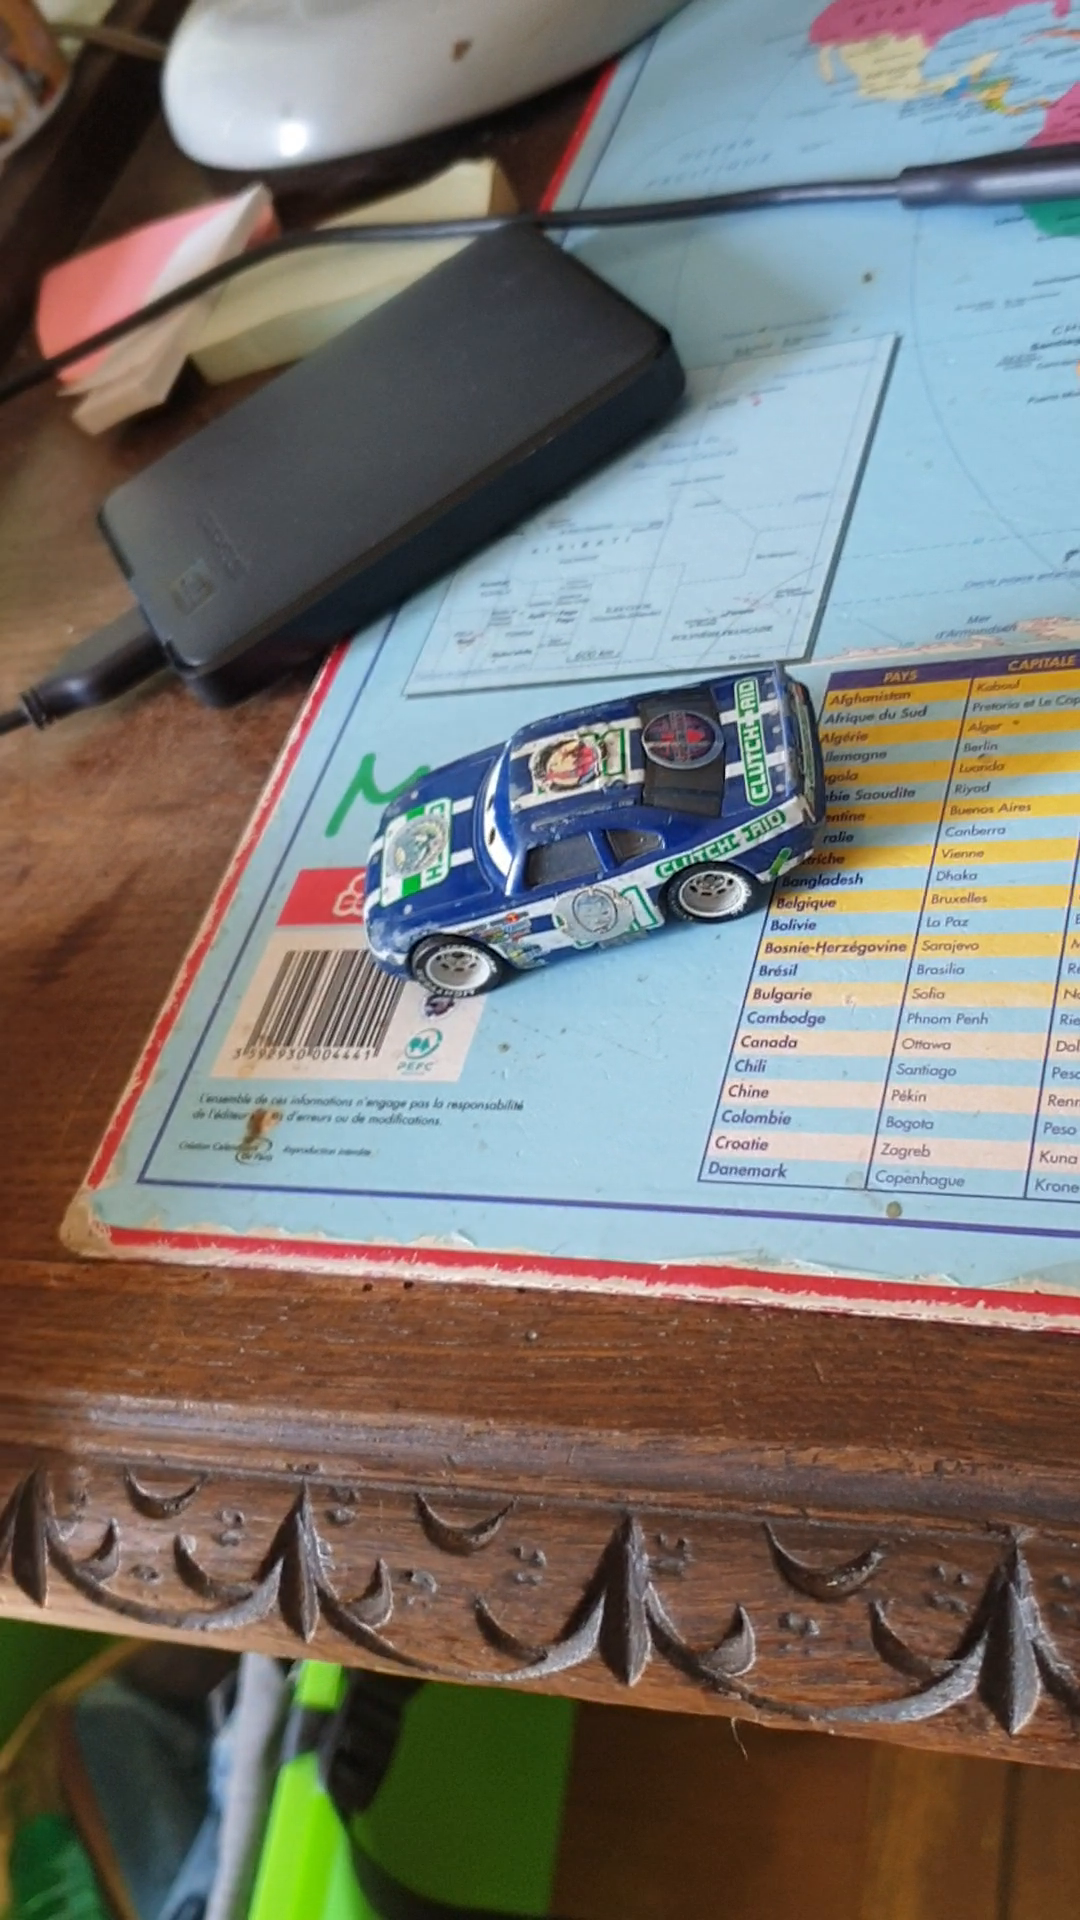cars: (359, 661, 827, 1000)
